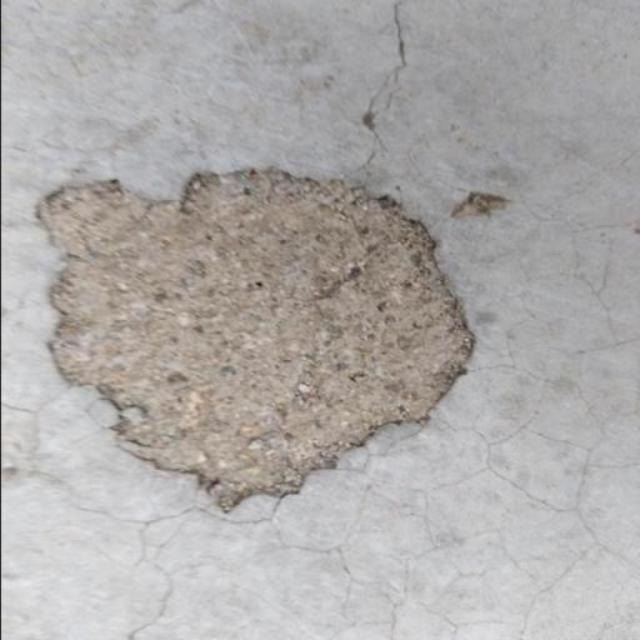D10: (42, 162, 477, 513), (450, 190, 509, 221)
